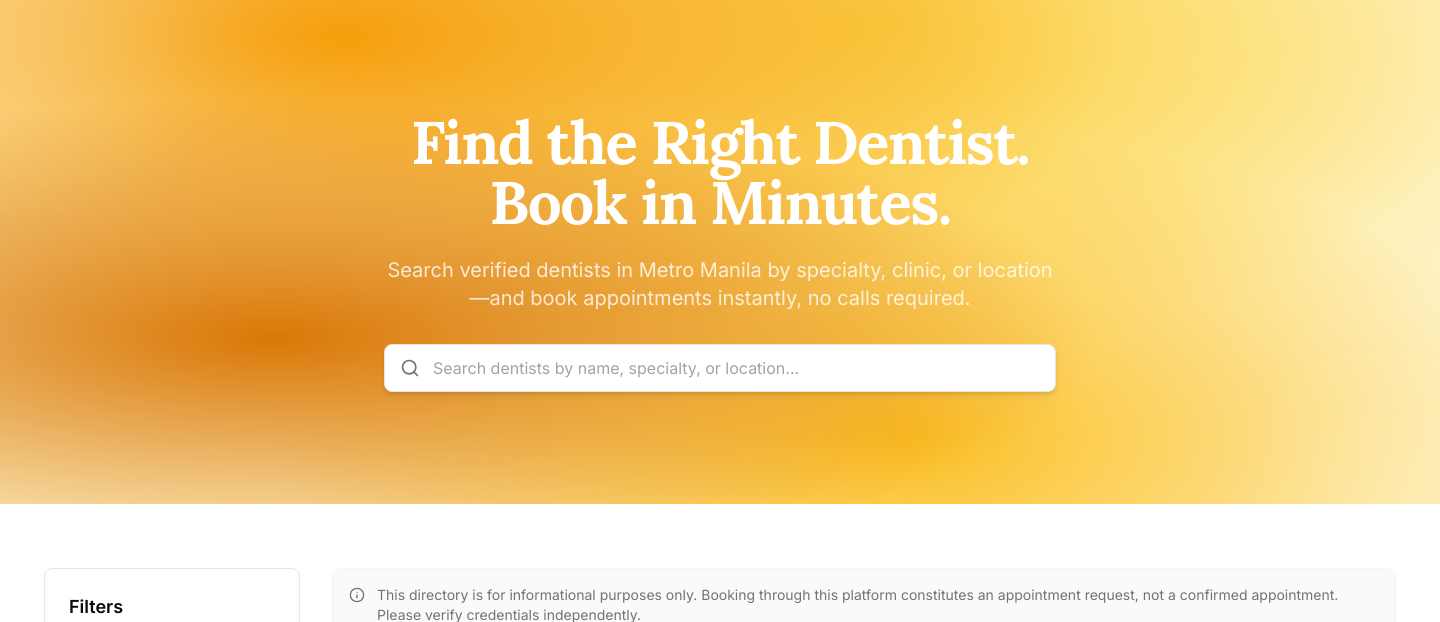
Test case: Find a Dentist Directory Page › Search Functionality › filters dentists by name
The width and height of the screenshot is (1440, 622).
# Search for "Jane"
Type "Jane" into the field with placeholder "Search dentists by name, specialty, or location..." at point(720, 368), box [384,344,1056,392]
(page scrolled)
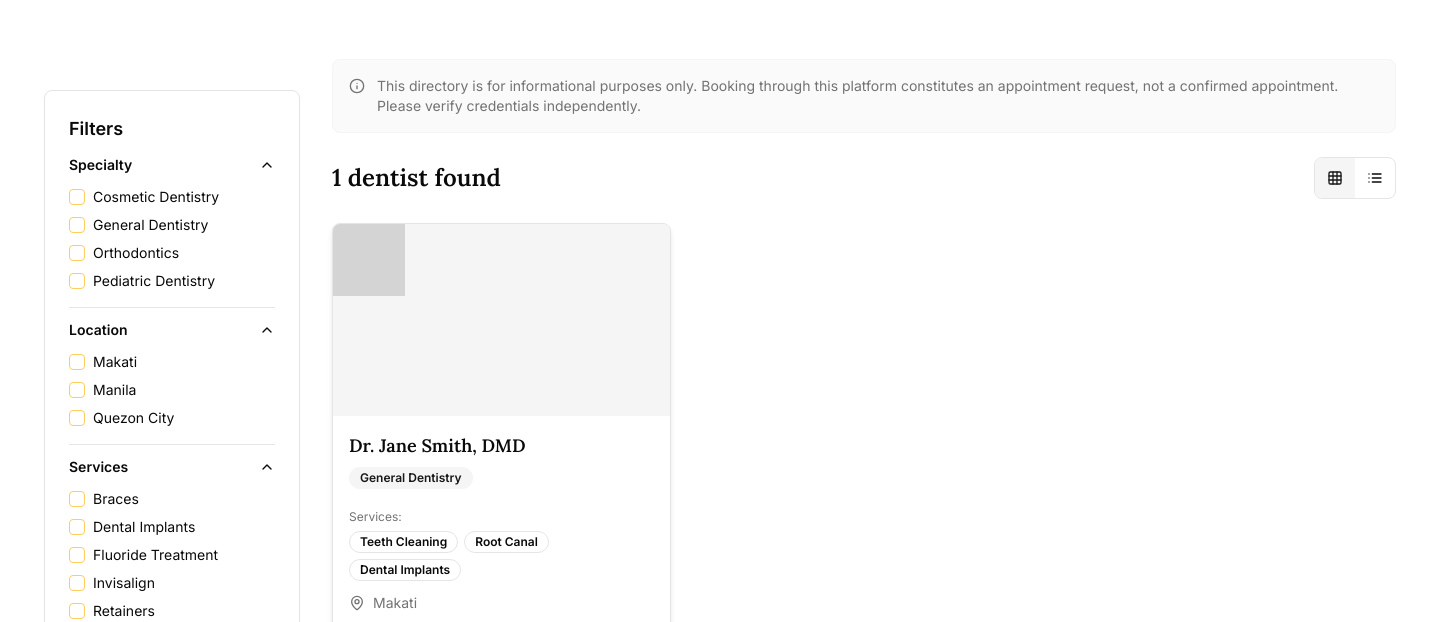
Expected: the heading "Dr. Jane Smith, DMD" is shown, [349,434,526,457]
Result: the heading "1 dentist found" is shown at [332,162,501,194]
